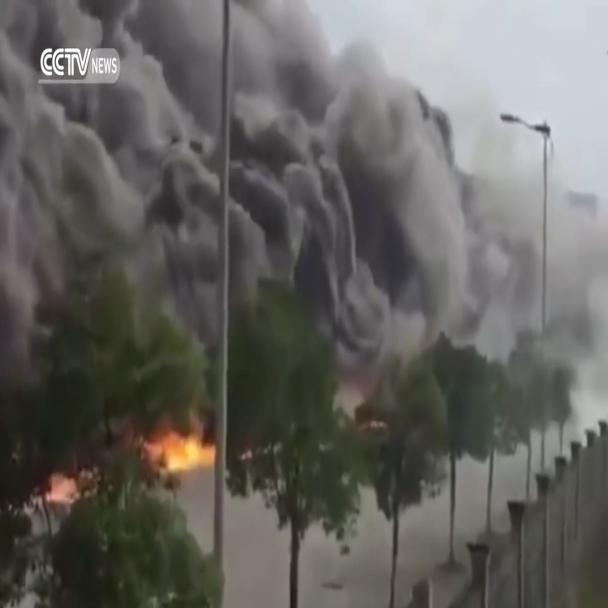Fire: (0, 19, 207, 530)
smoke: (222, 35, 556, 481)
